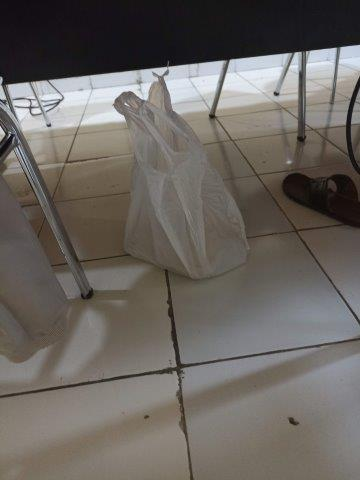plastik: (112, 82, 250, 283)
